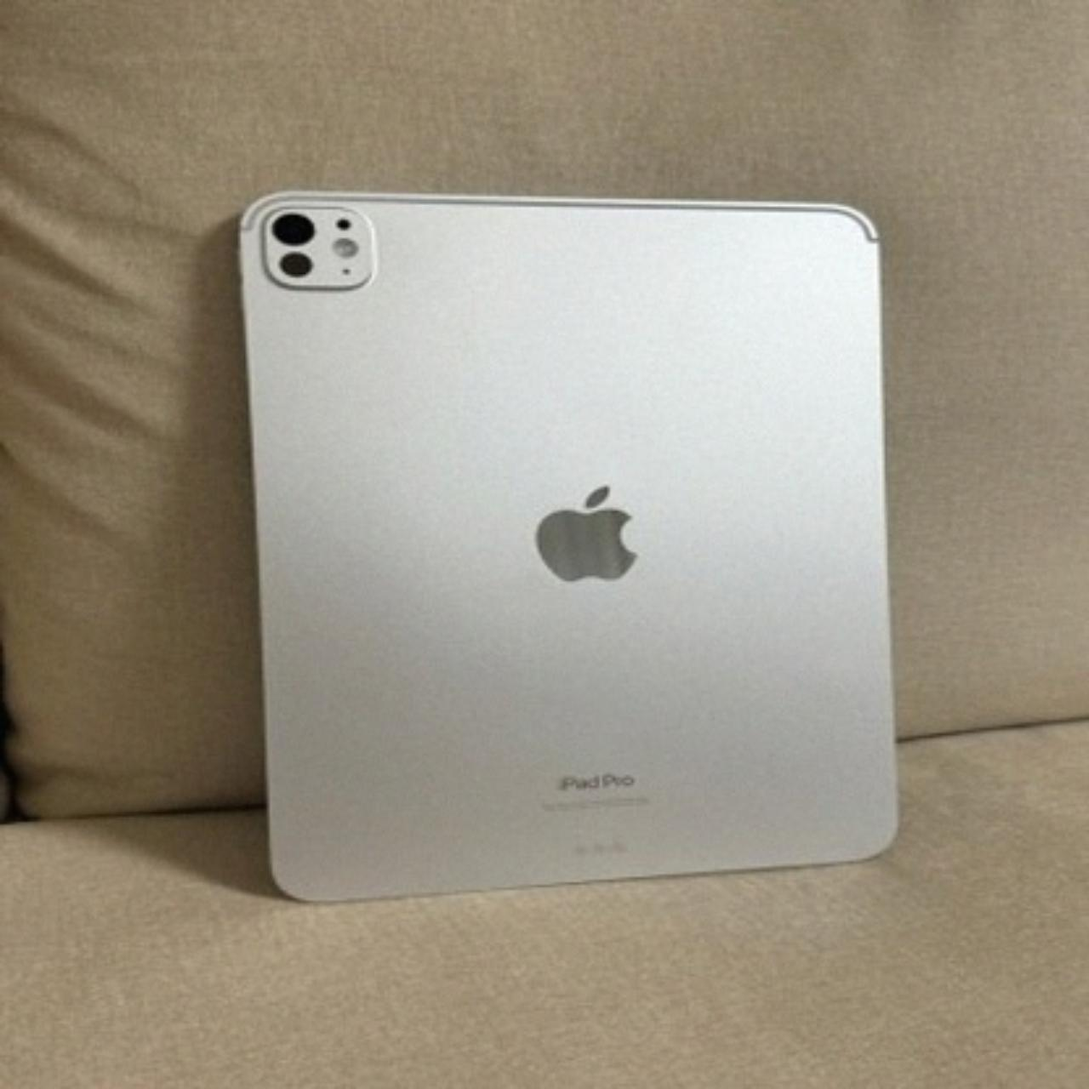Tablet_PC: (220, 171, 921, 908)
